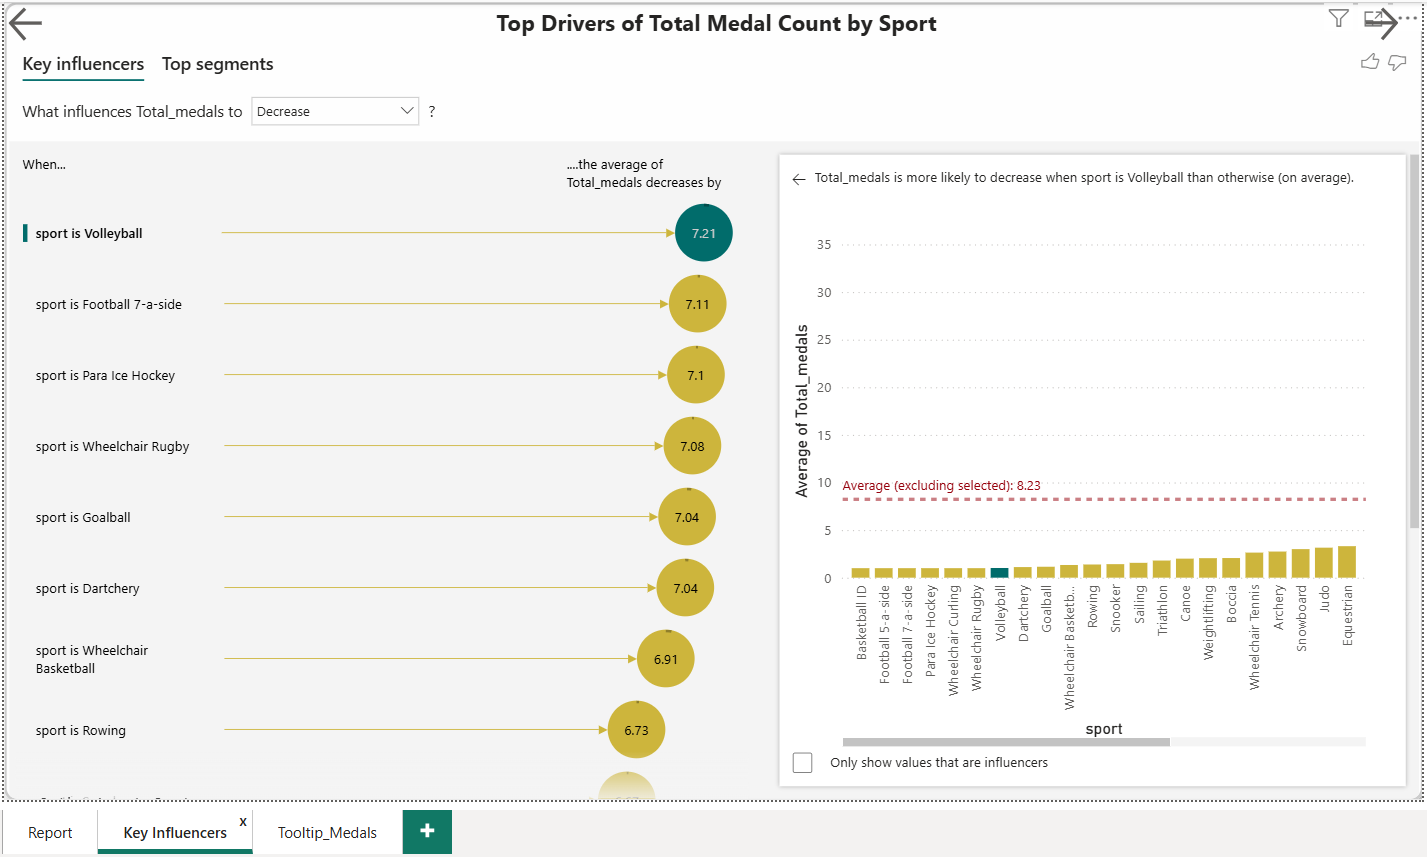

The dashboard page shown, as its layout file describes it:
{"tool":"powerbi","page":{"name":"Key Influencers","canvas":[1280,720],"ordinal":1},"visuals":[{"type":"keyDriversVisual","title":"Top Drivers of Total Medal Count by Sport","fields":{"Target":["Sport Wise Rank.Total_medals"],"ExplainBy":["Sport Wise Rank.sport"]},"box":[0,0,1280.3,720.7],"z":0},{"type":"actionButton","box":[1222.3,0,57.9,39.6],"z":1000},{"type":"actionButton","box":[0,0,100,40],"z":2000}]}

Visuals, with their boxes on the page's 1280x720 design canvas (x1, y1, x2, y2). These are canvas units, not pixel positions in the 1427x857 screenshot, which may show the page scaled, cropped or inside an application window:
"Top Drivers of Total Medal Count by Sport" keyDriversVisual: [0,0,1280,721]
actionButton: [1222,0,1280,40]
actionButton: [0,0,100,40]
